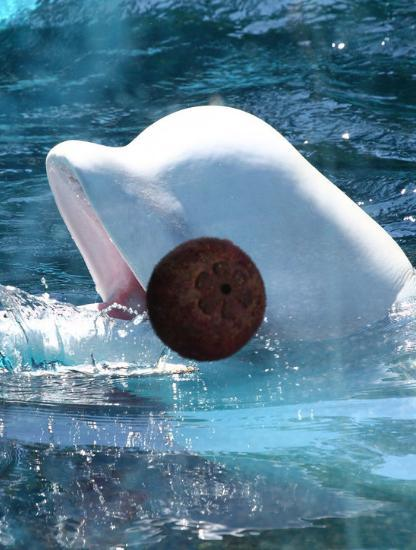Mangostan: (142, 235, 271, 364)
Peach: (186, 246, 257, 317)
